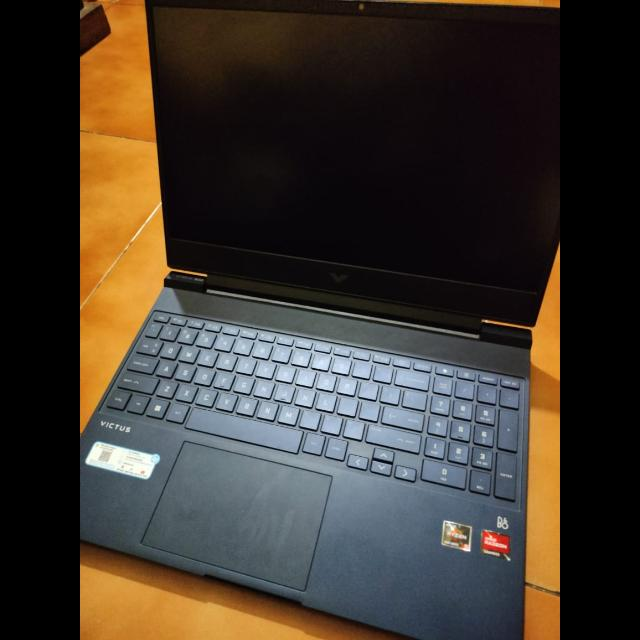laptop: (80, 3, 560, 621)
